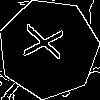X: (23, 24, 74, 63)
